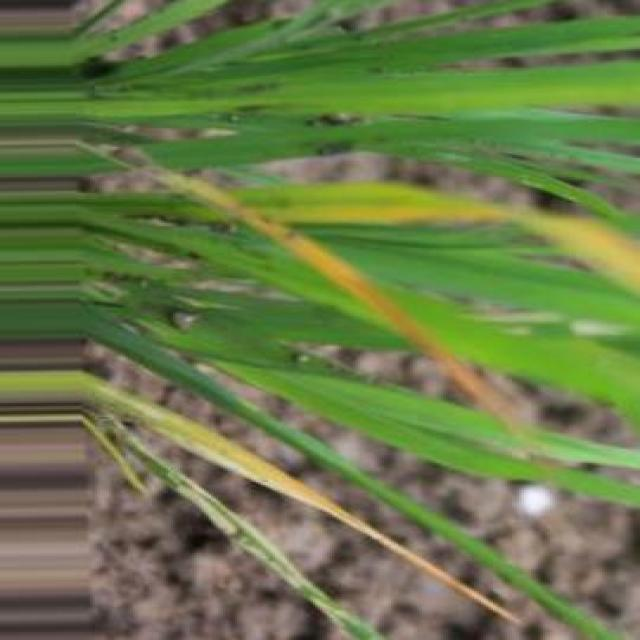Rice Tungro: (90, 381, 519, 622), (151, 166, 527, 431), (508, 208, 639, 292)
